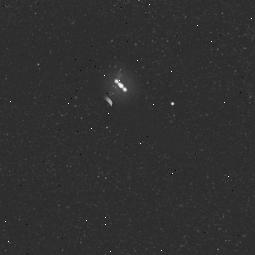earth_observation_sat_1: (92, 53, 134, 116)
